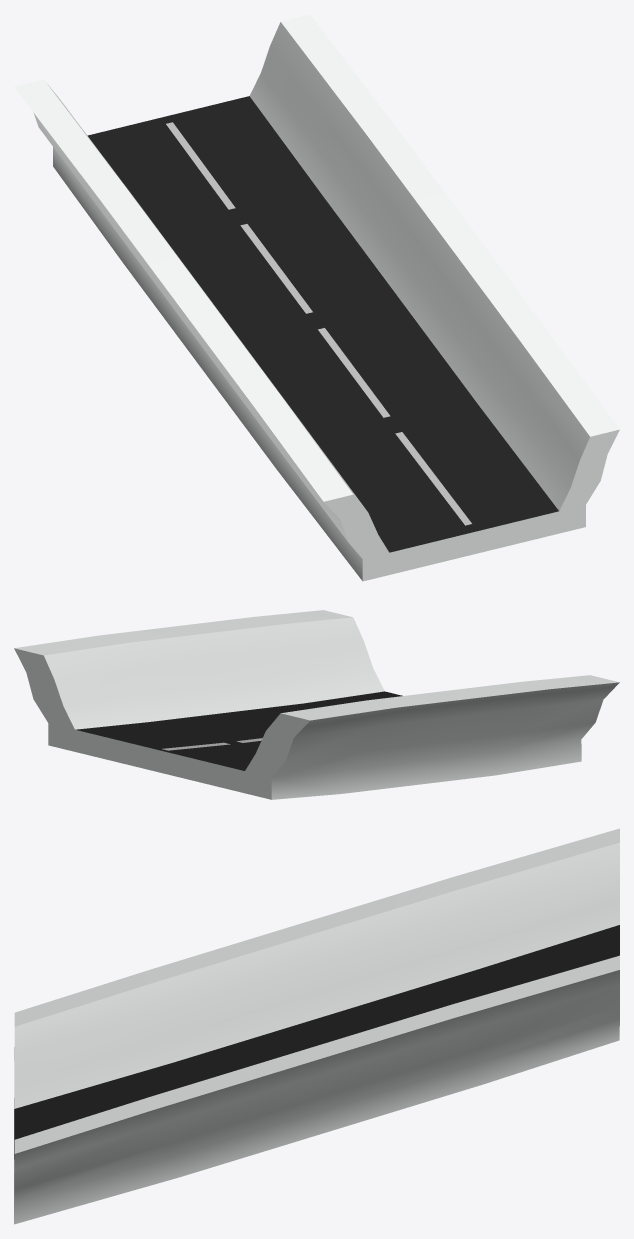
The model's file is duong len doc 1.fbx.
The picture shows the model from 3 angles, top to bottom: view 1: azimuth 30°, elevation 25°; view 2: azimuth 150°, elevation 25°; view 3: azimuth 270°, elevation 25°; orthographic projection. The views are drawn at different scales.
Parts seen in each view (by area): view 1: duong_len_doc1; view 2: duong_len_doc1; view 3: duong_len_doc1.
Boxes of the visible parts, x1,y1,x2,y2 form: duong_len_doc1: (14, 14, 619, 581); duong_len_doc1: (14, 610, 619, 799); duong_len_doc1: (14, 828, 619, 1224).
Bounding box in the file's own units: 20.94 × 18.72 × 37.92.
Materials: 1 (1 with a texture image).
